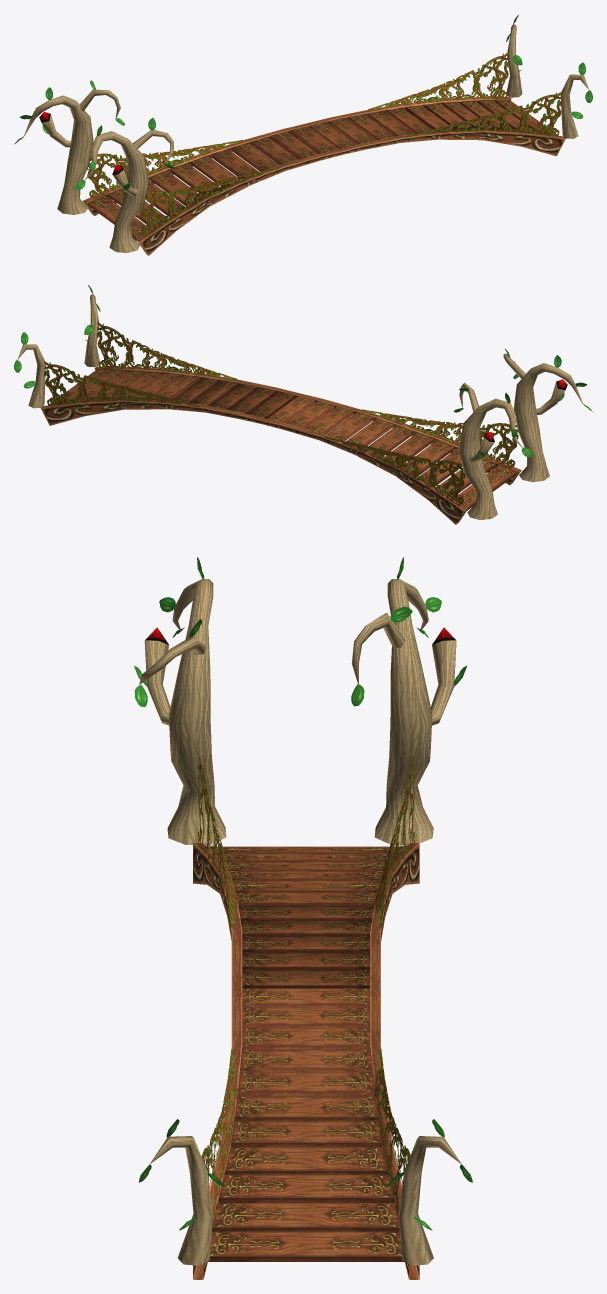
The model's file is EKH_GROTTO_PS_GR_BRIDGE7463__GX.fbx.
3 renders of one model, top to bottom at view 1: azimuth 30°, elevation 25°; view 2: azimuth 150°, elevation 25°; view 3: azimuth 270°, elevation 25°, orthographic. The views are drawn at different scales.
Visible parts, largest first — view 1: EKH_GROTTO_PS_GR_BRIDGE7463__GX; view 2: EKH_GROTTO_PS_GR_BRIDGE7463__GX; view 3: EKH_GROTTO_PS_GR_BRIDGE7463__GX.
Part boxes in pixels (bbox=[...]): EKH_GROTTO_PS_GR_BRIDGE7463__GX: bbox=[14, 15, 592, 255]; EKH_GROTTO_PS_GR_BRIDGE7463__GX: bbox=[14, 285, 592, 524]; EKH_GROTTO_PS_GR_BRIDGE7463__GX: bbox=[134, 557, 472, 1279].
Bounding box in the file's own units: 100114 × 26480 × 29103.
Materials: 6 (6 with a texture image).
